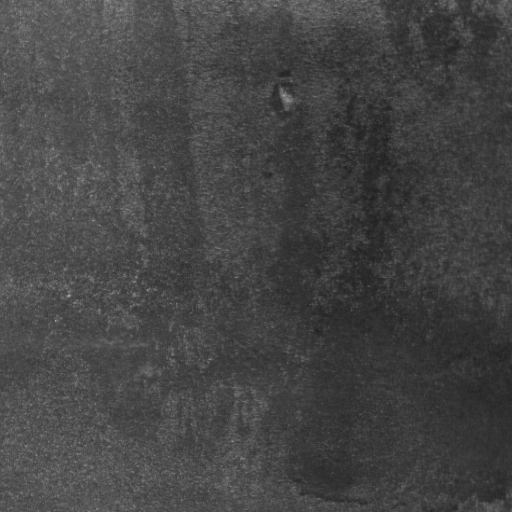aokeng: (266, 81, 298, 124)
